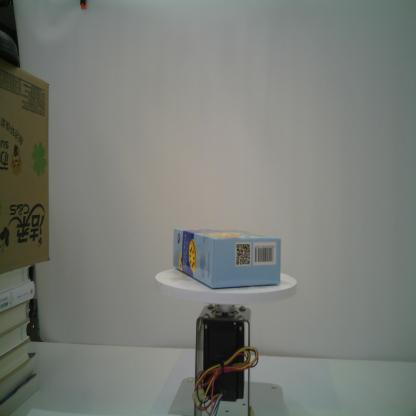Dessert: (171, 227, 282, 290)
